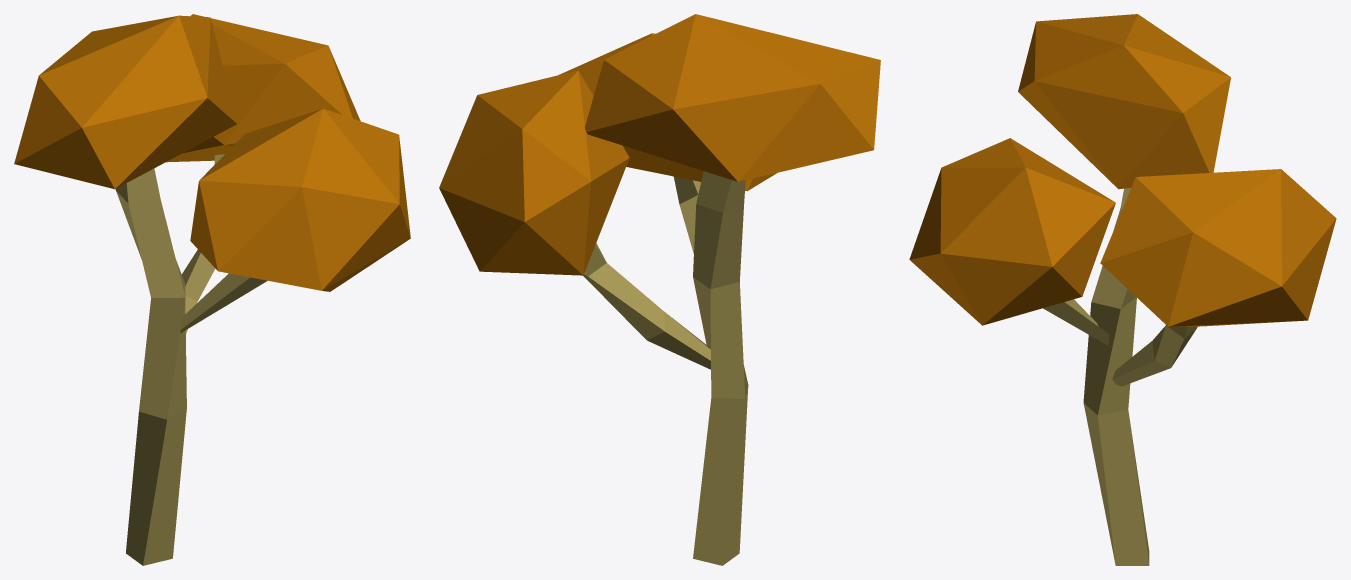
Rendered from Tree_Fall_4.fbx.
The picture shows the model from 3 angles, left to right: view 1: azimuth 30°, elevation 25°; view 2: azimuth 150°, elevation 25°; view 3: azimuth 270°, elevation 25°; orthographic projection. The views are drawn at different scales.
Parts seen in each view (by area): view 1: Leaves.001, Leaves.002, Trunk, Leaves, Trunk.001, Trunk.002; view 2: Leaves.002, Leaves, Trunk, Trunk.002, Leaves.001, Trunk.001; view 3: Leaves, Leaves.002, Leaves.001, Trunk, Trunk.002, Trunk.001.
Part boxes in pixels (left/top/right/bottom): Leaves.001: left=190, top=108, right=410, bottom=291; Leaves.002: left=14, top=15, right=237, bottom=189; Trunk: left=115, top=168, right=186, bottom=565; Leaves: left=166, top=14, right=360, bottom=162; Trunk.001: left=180, top=273, right=267, bottom=333; Trunk.002: left=182, top=154, right=224, bottom=334; Leaves.002: left=585, top=14, right=880, bottom=181; Leaves: left=439, top=70, right=629, bottom=275; Trunk: left=693, top=171, right=748, bottom=565; Trunk.002: left=583, top=243, right=710, bottom=369; Leaves.001: left=558, top=33, right=776, bottom=191; Trunk.001: left=674, top=176, right=700, bottom=253; Leaves: left=1100, top=169, right=1336, bottom=326; Leaves.002: left=1018, top=14, right=1230, bottom=189; Leaves.001: left=909, top=138, right=1115, bottom=325; Trunk: left=1083, top=188, right=1149, bottom=565; Trunk.002: left=1112, top=325, right=1197, bottom=386; Trunk.001: left=1043, top=299, right=1109, bottom=345.
Bounding box in the file's own units: 239 × 321 × 237.
